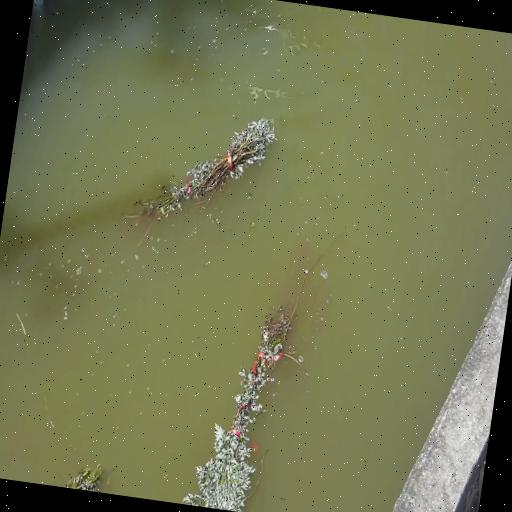twig: (183, 225, 347, 511), (128, 118, 275, 221), (66, 465, 102, 491)
